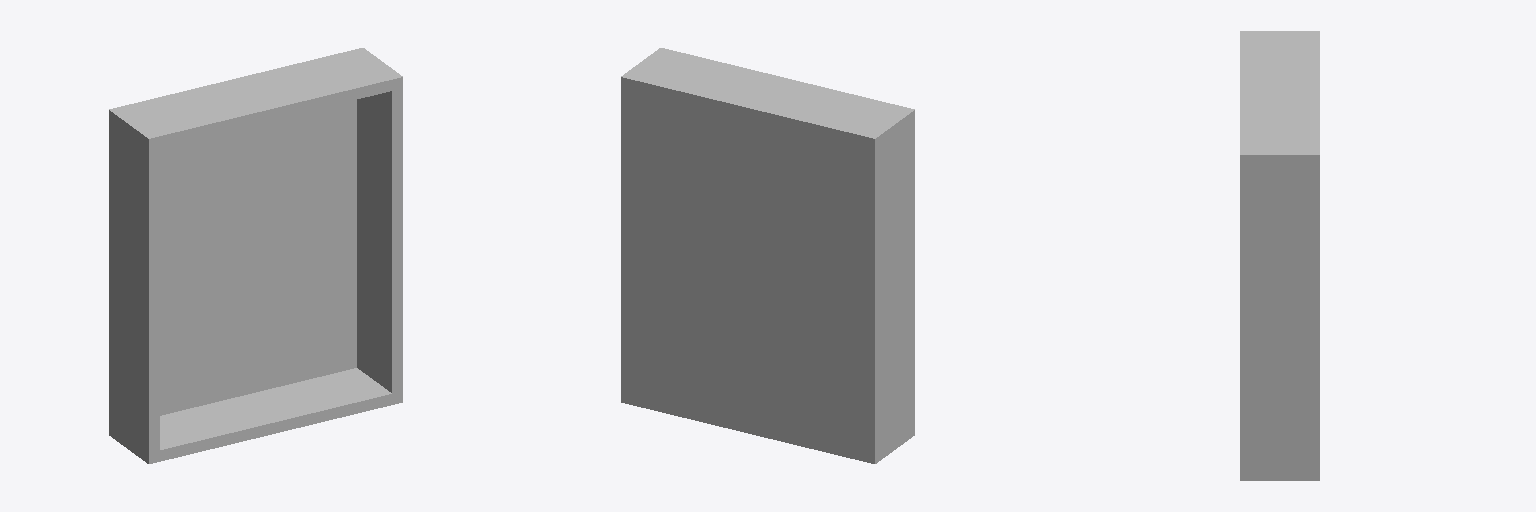
Rendered from bookshelf_4_case_1.obj.
3 views of the same model, side by side, from view 1: azimuth 30°, elevation 25°; view 2: azimuth 150°, elevation 25°; view 3: azimuth 270°, elevation 25° (orthographic).
Size of the model in its own units: 27.82 by 34 by 7.61.